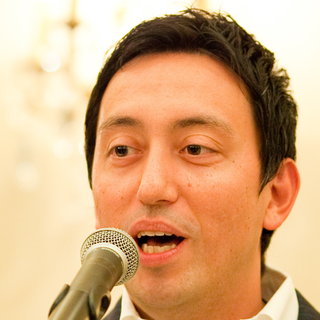eye: (174, 139, 221, 163), (106, 139, 144, 163)
